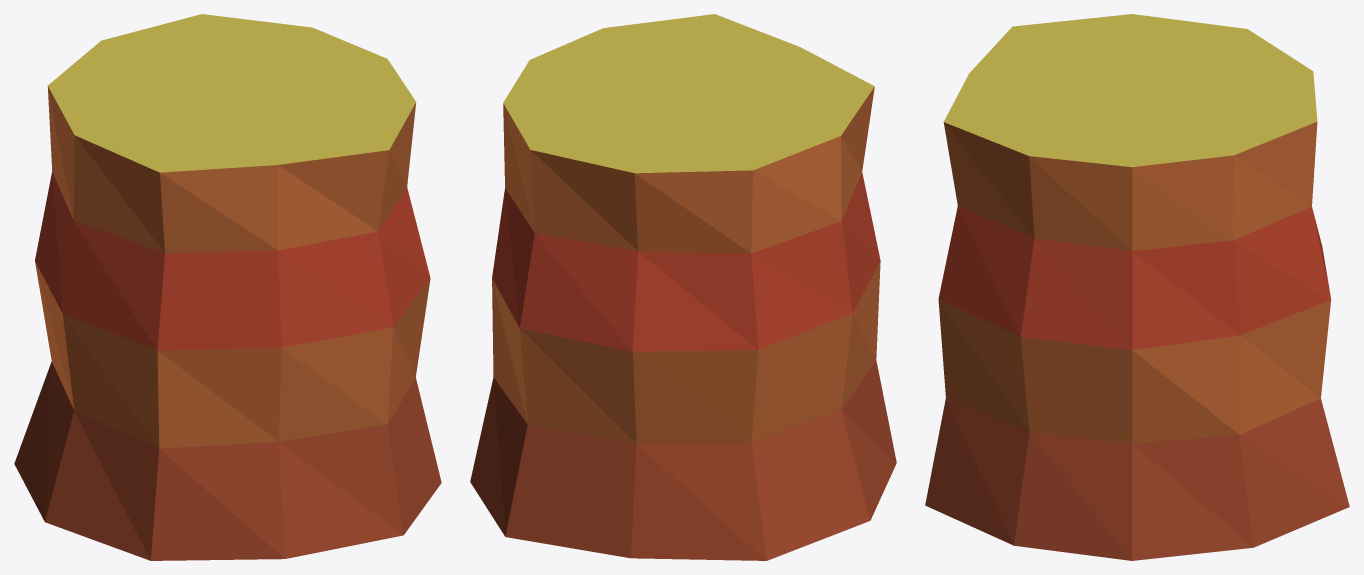
The model's file is CA_Pared_Canon_Esquina.obj.
The picture shows the model from 3 angles, left to right: view 1: azimuth 30°, elevation 25°; view 2: azimuth 150°, elevation 25°; view 3: azimuth 270°, elevation 25°; orthographic projection.
Visible parts, largest first — view 1: CA_Pared_Canon_Esquina; view 2: CA_Pared_Canon_Esquina; view 3: CA_Pared_Canon_Esquina.
Boxes of the visible parts, x1,y1,x2,y2 form: CA_Pared_Canon_Esquina: [14, 14, 441, 560]; CA_Pared_Canon_Esquina: [470, 14, 896, 560]; CA_Pared_Canon_Esquina: [925, 14, 1349, 560].
Bounding box in the file's own units: 8.14 × 8 × 8.08.
